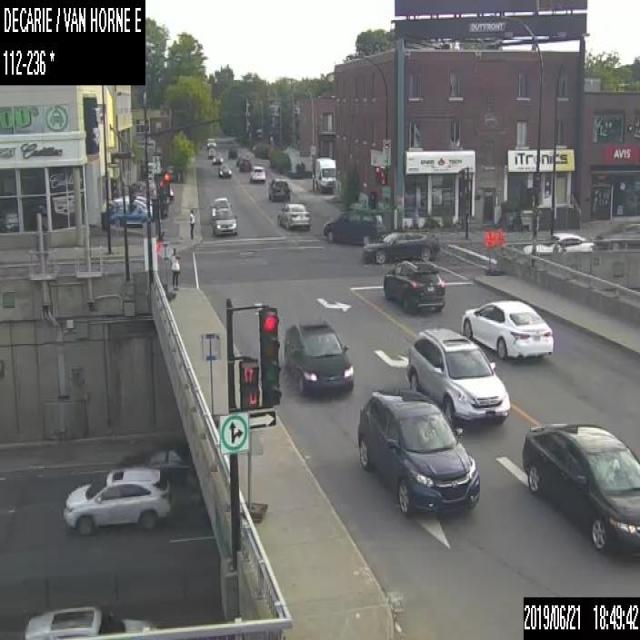construction: (241, 426, 268, 520), (201, 331, 219, 426), (157, 236, 175, 300), (484, 231, 494, 275), (493, 230, 503, 274)
pedestrian: (168, 245, 181, 288), (187, 205, 196, 238)
vehicle: (521, 421, 639, 556), (357, 387, 479, 515), (406, 326, 509, 429), (62, 464, 170, 531), (461, 299, 553, 359), (282, 319, 354, 393), (22, 604, 157, 639), (382, 259, 445, 310), (120, 442, 195, 484), (363, 230, 438, 264), (321, 208, 385, 242), (523, 232, 593, 254), (104, 199, 152, 228), (594, 220, 639, 250), (276, 201, 310, 229), (315, 156, 335, 192), (210, 208, 236, 235), (267, 177, 291, 201), (209, 195, 231, 217), (248, 165, 265, 182), (218, 164, 231, 176), (211, 151, 222, 164), (239, 157, 250, 170), (206, 136, 216, 148), (227, 146, 237, 158), (236, 154, 247, 164), (208, 148, 216, 158)
